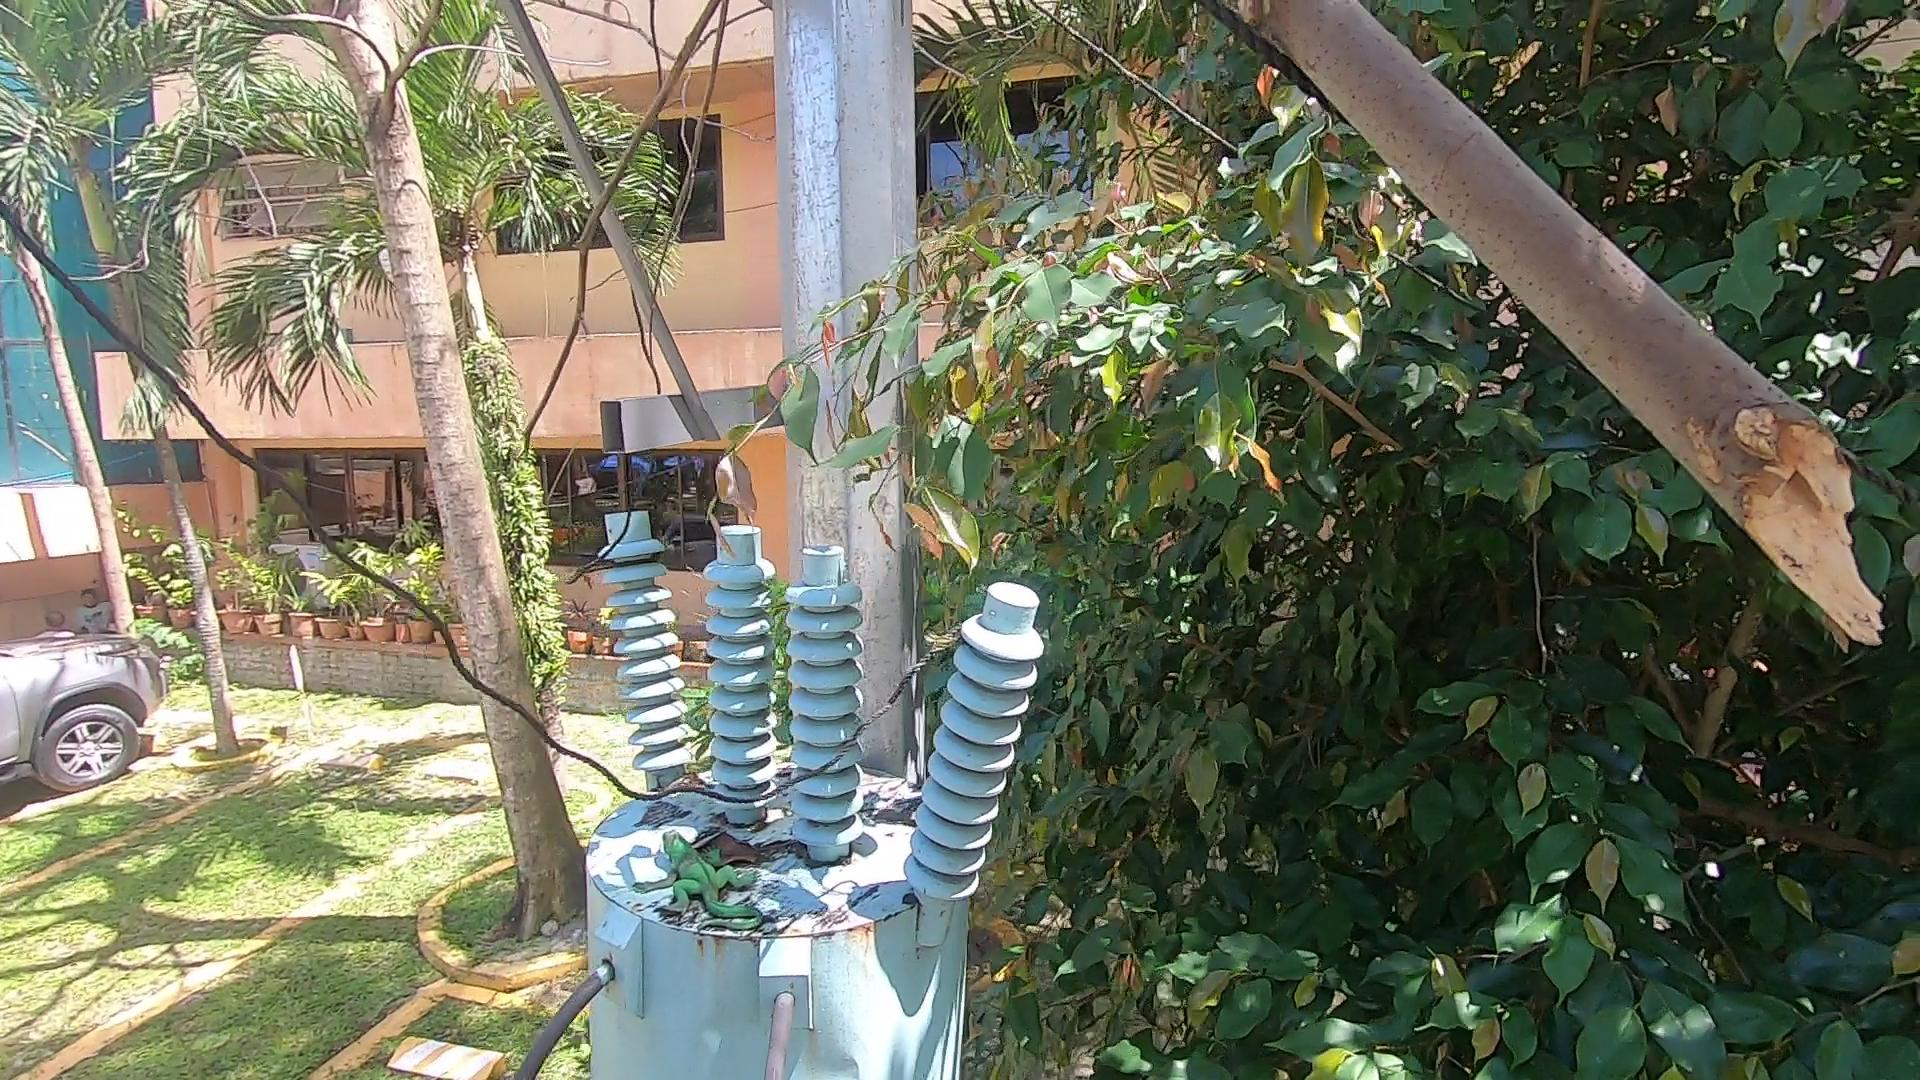branch with leaves: (662, 299, 1108, 584)
leaf: (853, 781, 928, 840), (678, 832, 767, 876), (654, 767, 727, 807)
tree branch: (1201, 40, 1917, 670)
